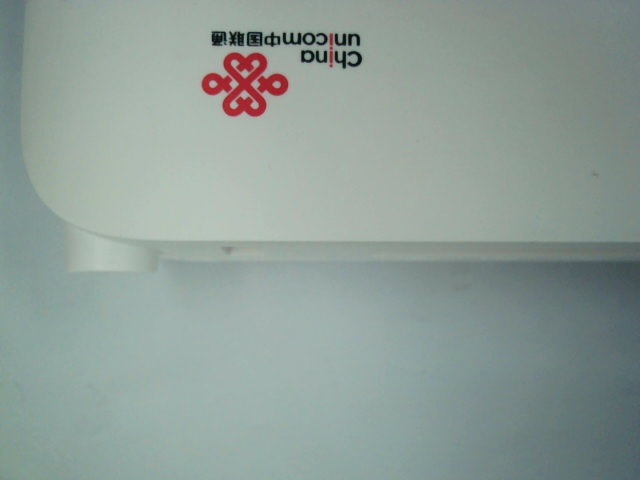AC_ChinaUnicom: (199, 22, 379, 118)
